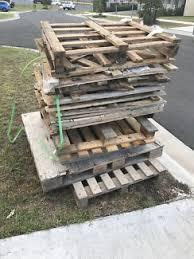wood: (34, 14, 180, 209)
